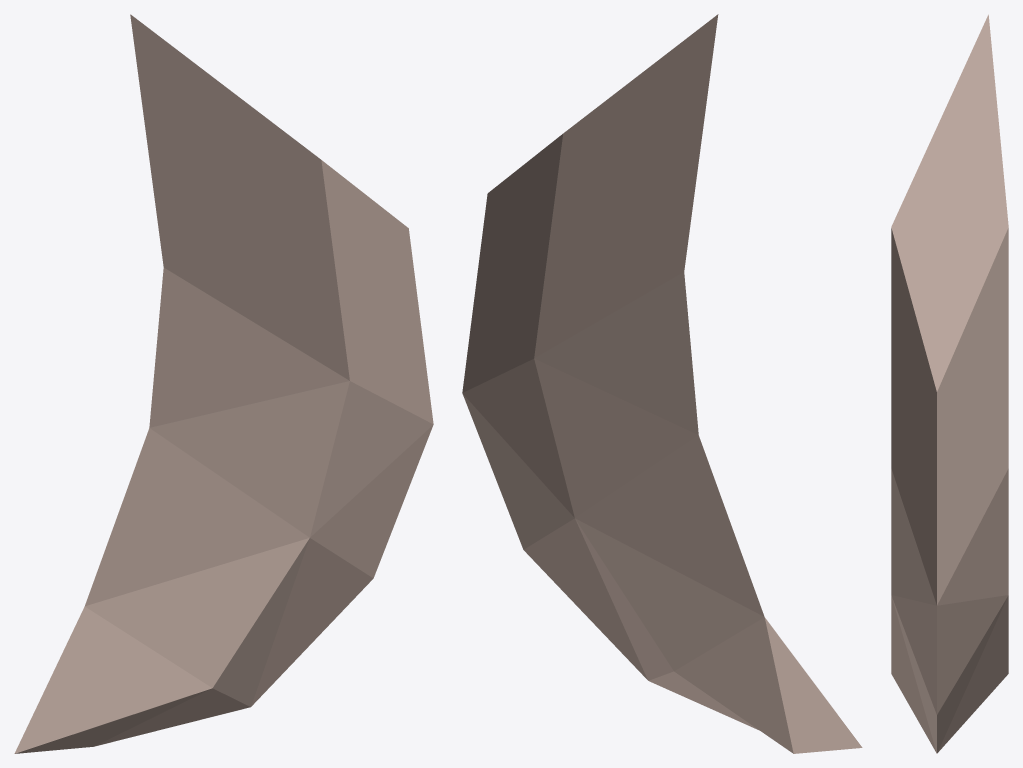
File: Garlic_0.fbx
The picture shows the model from 3 angles, left to right: view 1: azimuth 30°, elevation 25°; view 2: azimuth 150°, elevation 25°; view 3: azimuth 270°, elevation 25°; orthographic projection. The views are drawn at different scales.
Parts seen in each view (by area): view 1: Garlic_0; view 2: Garlic_0; view 3: Garlic_0.
Boxes of the visible parts, x1,y1,x2,y2 form: Garlic_0: (14, 14, 433, 753); Garlic_0: (462, 14, 862, 753); Garlic_0: (891, 14, 1008, 753).
Bounding box in the file's own units: 25.12 × 42.02 × 6.32.
